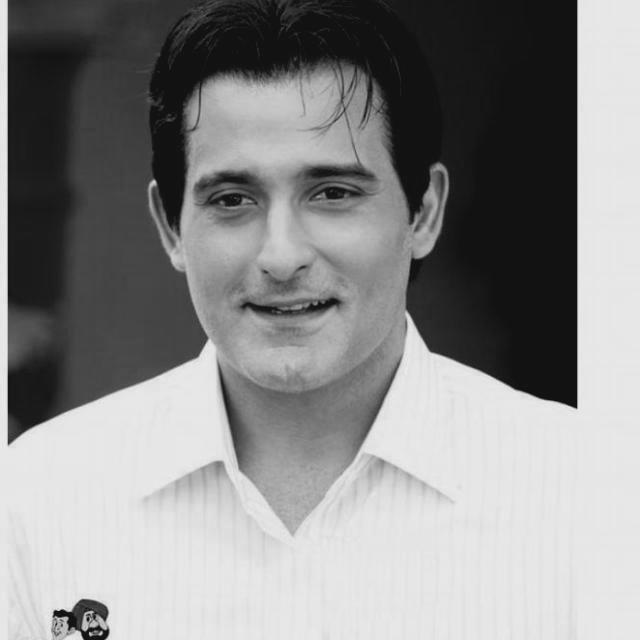real: (142, 64, 460, 404)
